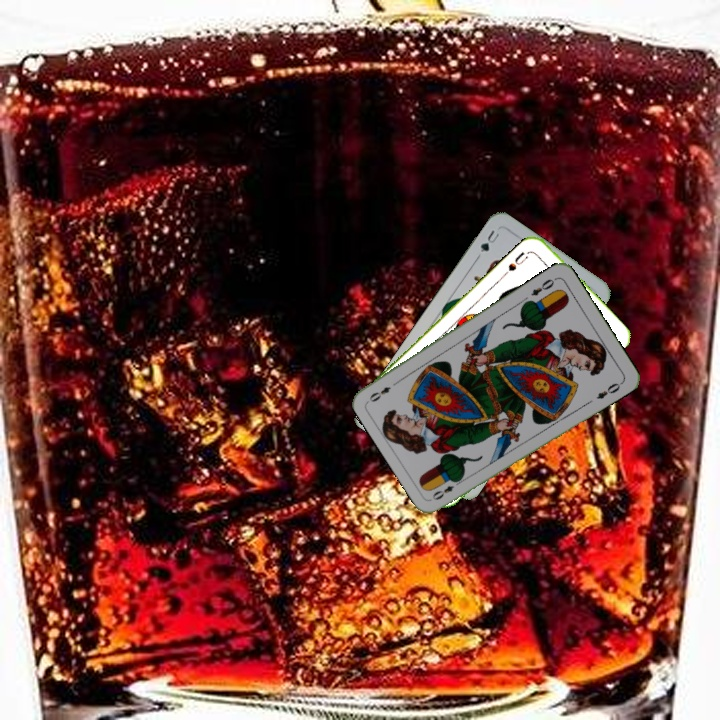EO: (428, 475, 465, 503), (527, 274, 559, 298)
GU: (476, 226, 502, 255)
SU: (500, 248, 531, 277)
